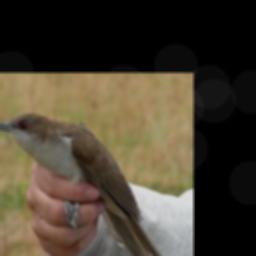Cuckoo: (0, 111, 182, 256)
